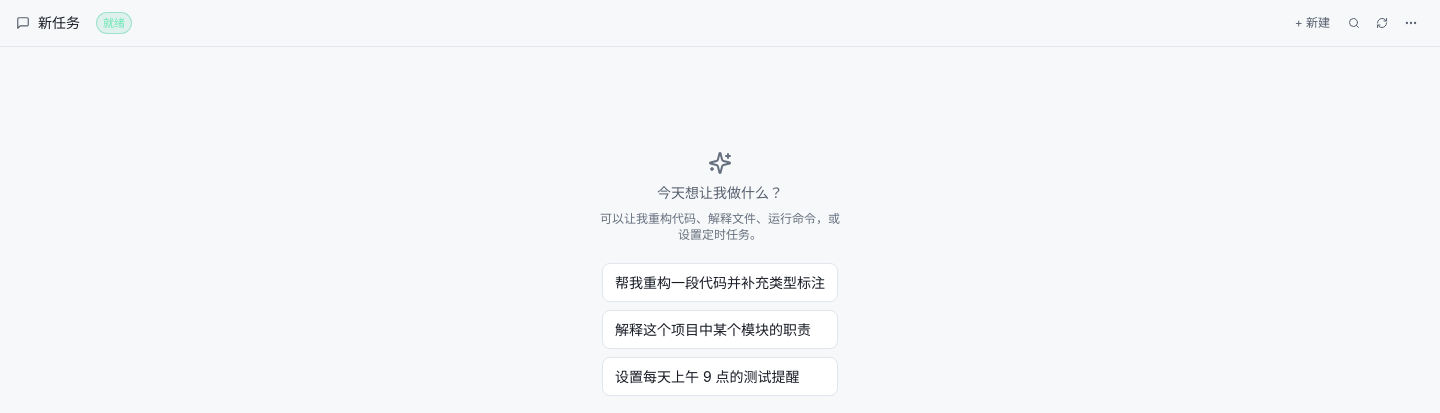
ChatPanel › opens the more menu with session actions disabled when no session is open
Click the button with test id "chat-header-menu" at (1411, 23), box x1=1398 y1=10 x2=1424 y2=36
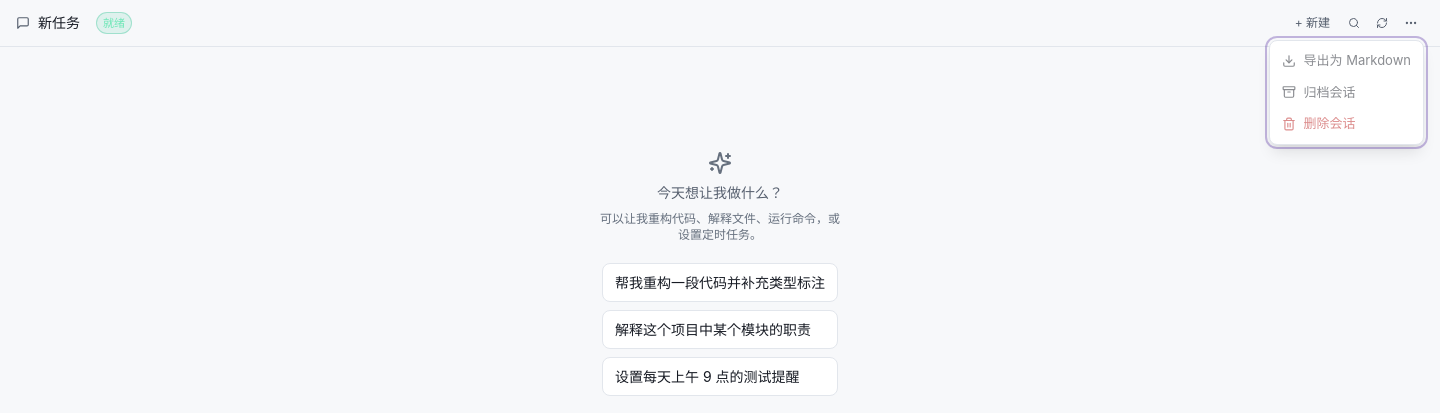
Result: the menu with test id "chat-header-menu-menu" is shown at x1=1268 y1=40 x2=1424 y2=144
Result: the number of menu items is 3 at x1=1270 y1=45 x2=1423 y2=76; x1=1270 y1=76 x2=1423 y2=108; x1=1270 y1=108 x2=1423 y2=140
Result: the menu item "导出为 Markdown" is disabled at x1=1270 y1=45 x2=1423 y2=76
